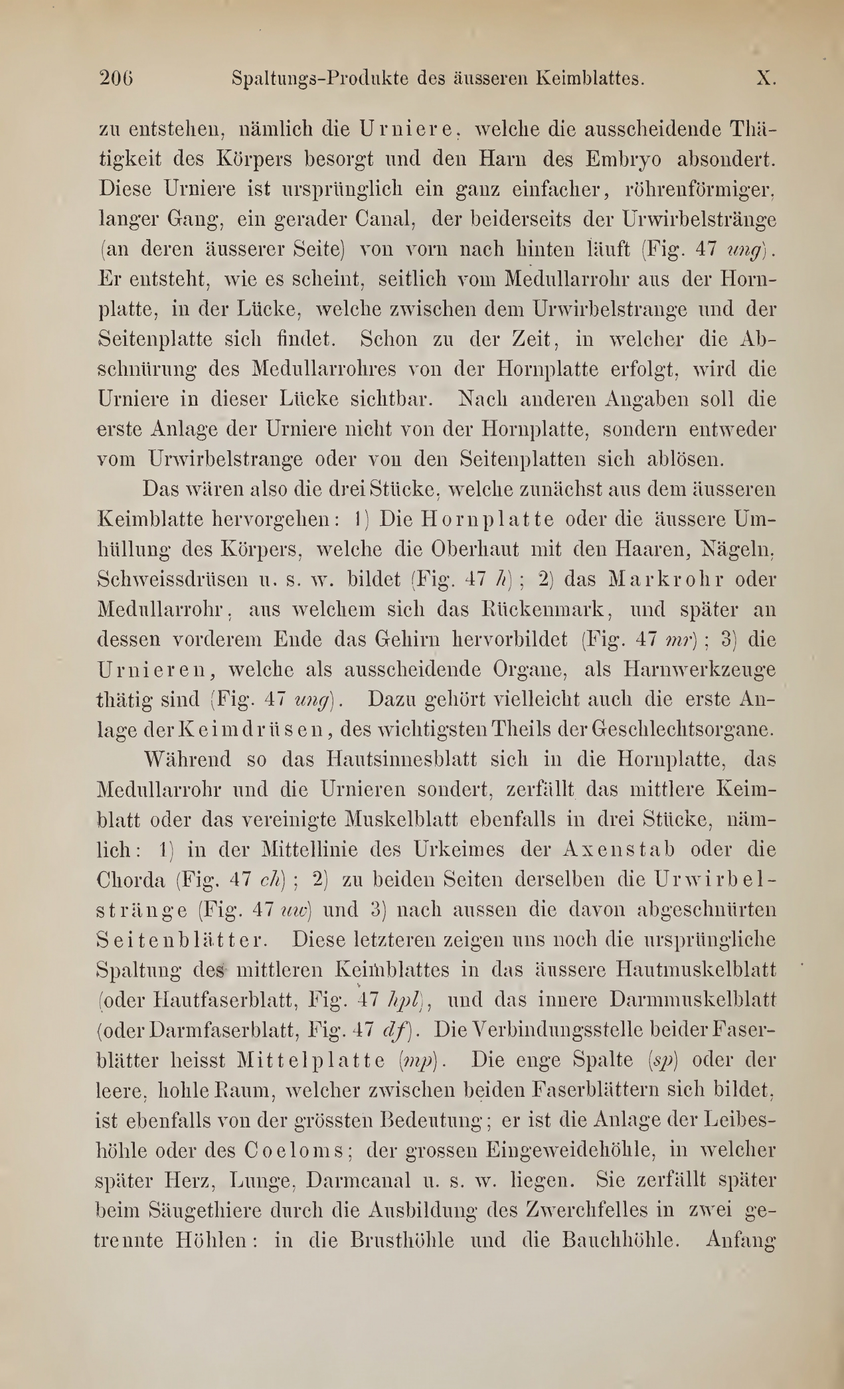MainZone: (76, 107, 801, 1264)
NumberingZone chapter: (746, 50, 789, 96)
NumberingZone_page: (89, 58, 149, 98)
RunningTitleZone: (221, 60, 658, 99)
